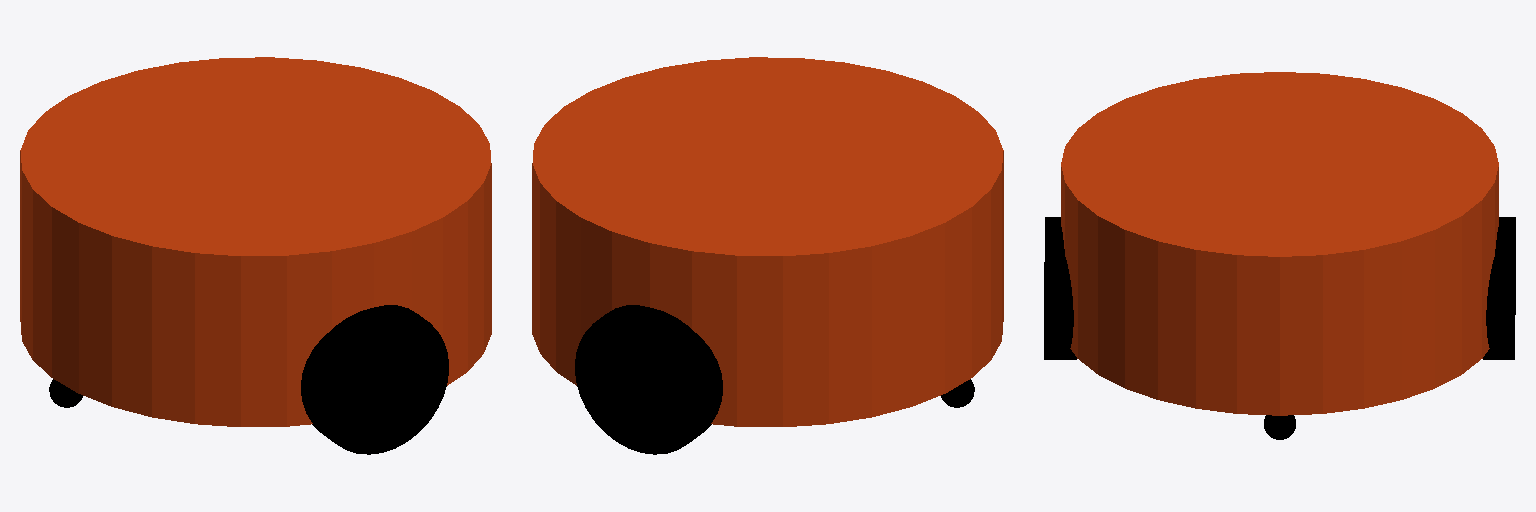
URDF robot description (mycar):
<robot name="mycar">
    <!-- 设置 base_footprint  -->
    <link name="base_footprint">
        <visual>
            <geometry>
                <sphere radius="0.001" />
            </geometry>
        </visual>
    </link>

    <!-- 添加底盘 -->
<!-- 
        参数
            形状:圆柱 
            半径:10     cm 
            高度:8      cm 
            离地:1.5    cm

    -->
    <link name="base_link">
        <visual>
            <geometry>
                <cylinder radius="0.1" length="0.08" />
            </geometry>
            <origin xyz="0 0 0" rpy="0 0 0" />
            <material name="yellow">
                <color rgba="0.8 0.3 0.1 0.5" />
            </material>
        </visual>
    </link>

    <joint name="base_link2base_footprint" type="fixed">
        <parent link="base_footprint" />
        <child link="base_link"/>
        <origin xyz="0 0 0.055" />
    </joint>

    <!-- 添加驱动轮 -->

<!-- 添加驱动轮 -->
    <!--
        驱动轮是侧翻的圆柱
        参数
            半径: 3.25 cm
            宽度: 1.5  cm
            颜色: 黑色
        关节设置:
            x = 0
            y = 底盘的半径 + 轮胎宽度 / 2
            z = 离地间距 + 底盘长度 / 2 - 轮胎半径 = 1.5 + 4 - 3.25 = 2.25(cm)
            axis = 0 1 0
    -->
    <link name="left_wheel">
        <visual>
            <geometry>
                <cylinder radius="0.0325" length="0.015" />
            </geometry>
            <origin xyz="0 0 0" rpy="1.5705 0 0" />
            <material name="black">
                <color rgba="0.0 0.0 0.0 1.0" />
            </material>
        </visual>

    </link>

    <joint name="left_wheel2base_link" type="continuous">
        <parent link="base_link" />
        <child link="left_wheel" />
        <origin xyz="0 0.1 -0.0225" />
        <axis xyz="0 1 0" />
    </joint>


    <link name="right_wheel">
        <visual>
            <geometry>
                <cylinder radius="0.0325" length="0.015" />
            </geometry>
            <origin xyz="0 0 0" rpy="1.5705 0 0" />
            <material name="black">
                <color rgba="0.0 0.0 0.0 1.0" />
            </material>
        </visual>

    </link>

    <joint name="right_wheel2base_link" type="continuous">
        <parent link="base_link" />
        <child link="right_wheel" />
        <origin xyz="0 -0.1 -0.0225" />
        <axis xyz="0 1 0" />
    </joint>
    <!-- 添加万向轮(支撑轮) -->
<!-- 添加万向轮(支撑轮) -->
    <!--
        参数
            形状: 球体
            半径: 0.75 cm
            颜色: 黑色

        关节设置:
            x = 自定义(底盘半径 - 万向轮半径) = 0.1 - 0.0075 = 0.0925(cm)
            y = 0
            z = 底盘长度 / 2 + 离地间距 / 2 = 0.08 / 2 + 0.015 / 2 = 0.0475 
            axis= 1 1 1

    -->
    <link name="front_wheel">
        <visual>
            <geometry>
                <sphere radius="0.0075" />
            </geometry>
            <origin xyz="0 0 0" rpy="0 0 0" />
            <material name="black">
                <color rgba="0.0 0.0 0.0 1.0" />
            </material>
        </visual>
    </link>

    <joint name="front_wheel2base_link" type="continuous">
        <parent link="base_link" />
        <child link="front_wheel" />
        <origin xyz="0.0925 0 -0.0475" />
        <axis xyz="1 1 1" />
    </joint>

    <link name="back_wheel">
        <visual>
            <geometry>
                <sphere radius="0.0075" />
            </geometry>
            <origin xyz="0 0 0" rpy="0 0 0" />
            <material name="black">
                <color rgba="0.0 0.0 0.0 1.0" />
            </material>
        </visual>
    </link>

    <joint name="back_wheel2base_link" type="continuous">
        <parent link="base_link" />
        <child link="back_wheel" />
        <origin xyz="-0.0925 0 -0.0475" />
        <axis xyz="1 1 1" />
    </joint>
</robot>

--- Facts derived from the render (not from the file) ---
3 views of the same robot in one strip: view 1: azimuth 30°, elevation 25°; view 2: azimuth 150°, elevation 25°; view 3: azimuth 270°, elevation 25° (orthographic).
Model mycar with 6 links and 5 joints (4 continuous, 1 fixed), rooted at base_footprint, posed all joints at 0.
Visible links, largest first — view 1: base_link, right_wheel, back_wheel; view 2: base_link, left_wheel, back_wheel; view 3: base_link, right_wheel, left_wheel, front_wheel.
Boxes of the visible links, bbox=[...] form: base_link: bbox=[20, 57, 491, 426]; right_wheel: bbox=[301, 305, 448, 454]; back_wheel: bbox=[49, 379, 82, 407]; base_link: bbox=[532, 57, 1003, 426]; left_wheel: bbox=[575, 305, 722, 454]; back_wheel: bbox=[941, 379, 974, 407]; base_link: bbox=[1061, 72, 1498, 415]; right_wheel: bbox=[1044, 217, 1076, 359]; left_wheel: bbox=[1483, 217, 1515, 359]; front_wheel: bbox=[1264, 415, 1295, 439].
Size in the robot's own frame: 0.2 by 0.215 by 0.096 metres.
Geometry: primitives only (box / cylinder / sphere), no mesh files.